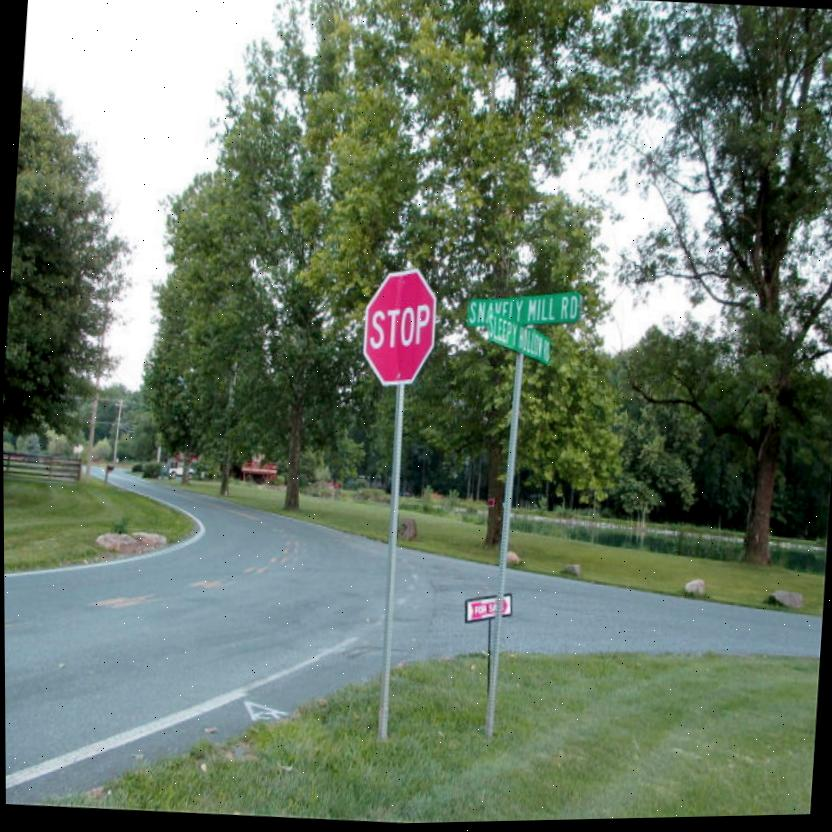Pole: (484, 358, 525, 740), (371, 386, 410, 739)
Sign: (359, 267, 439, 389)
